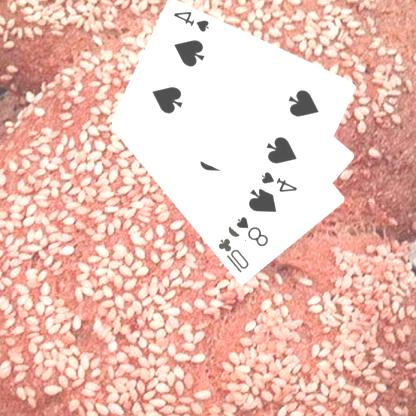10C: (217, 236, 252, 274)
4S: (260, 169, 301, 194), (172, 9, 212, 34)
8S: (235, 214, 272, 249)
